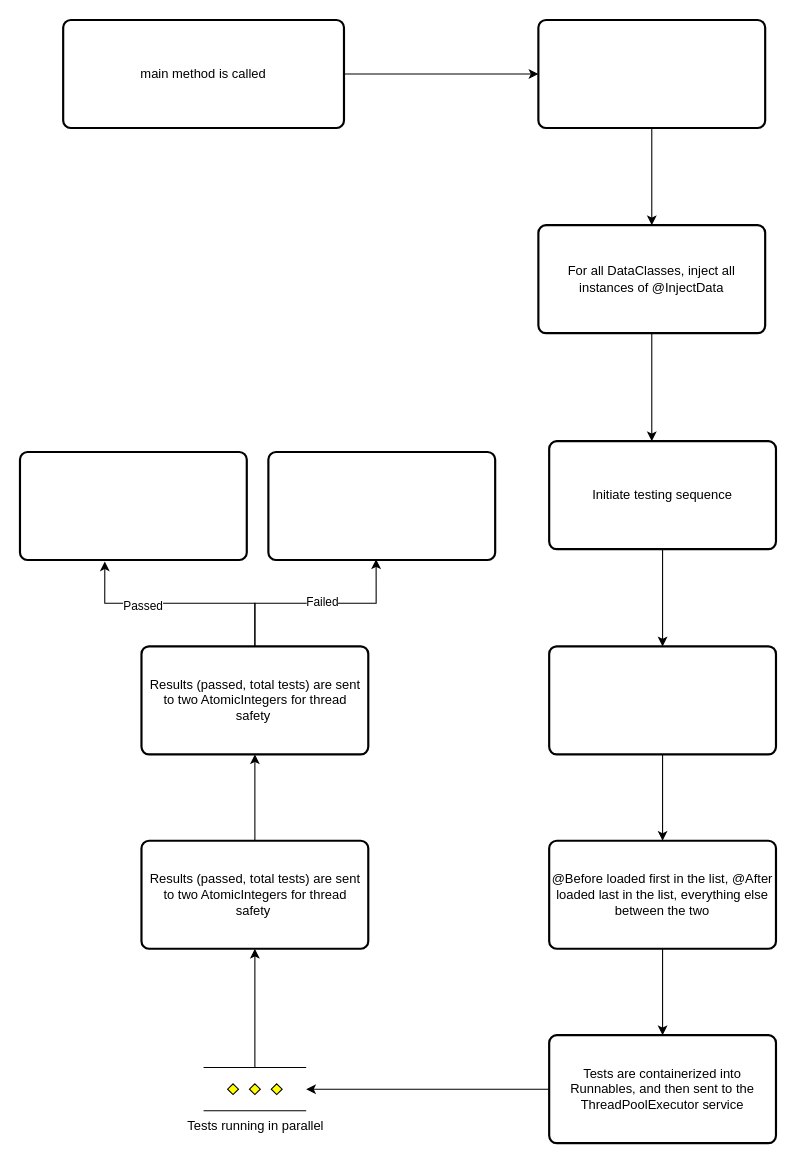
The diagram is 795 pixels wide and 1162 high, and some of its shapes have lost their labels. Here are the shapes that lost their labels. From the top down, the centre of each, then its label:
At pixel 651 73: "Annotation system finds DataClasses".
At pixel 132 505: "Passed test, print passed".
At pixel 381 505: "TestFailedException thrown, parse result and print".
At pixel 662 700: "Annotation finds all test cases".
